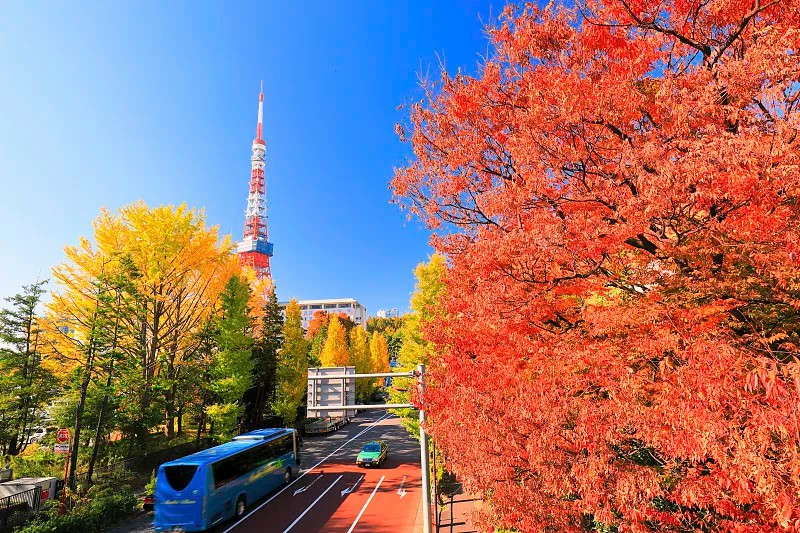Tokyo: (238, 78, 274, 311)
